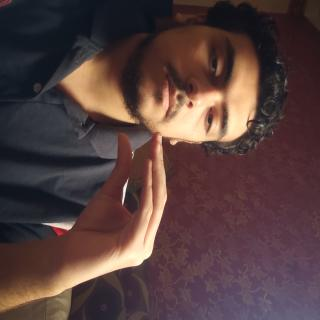JEEM: (93, 198, 223, 320)
